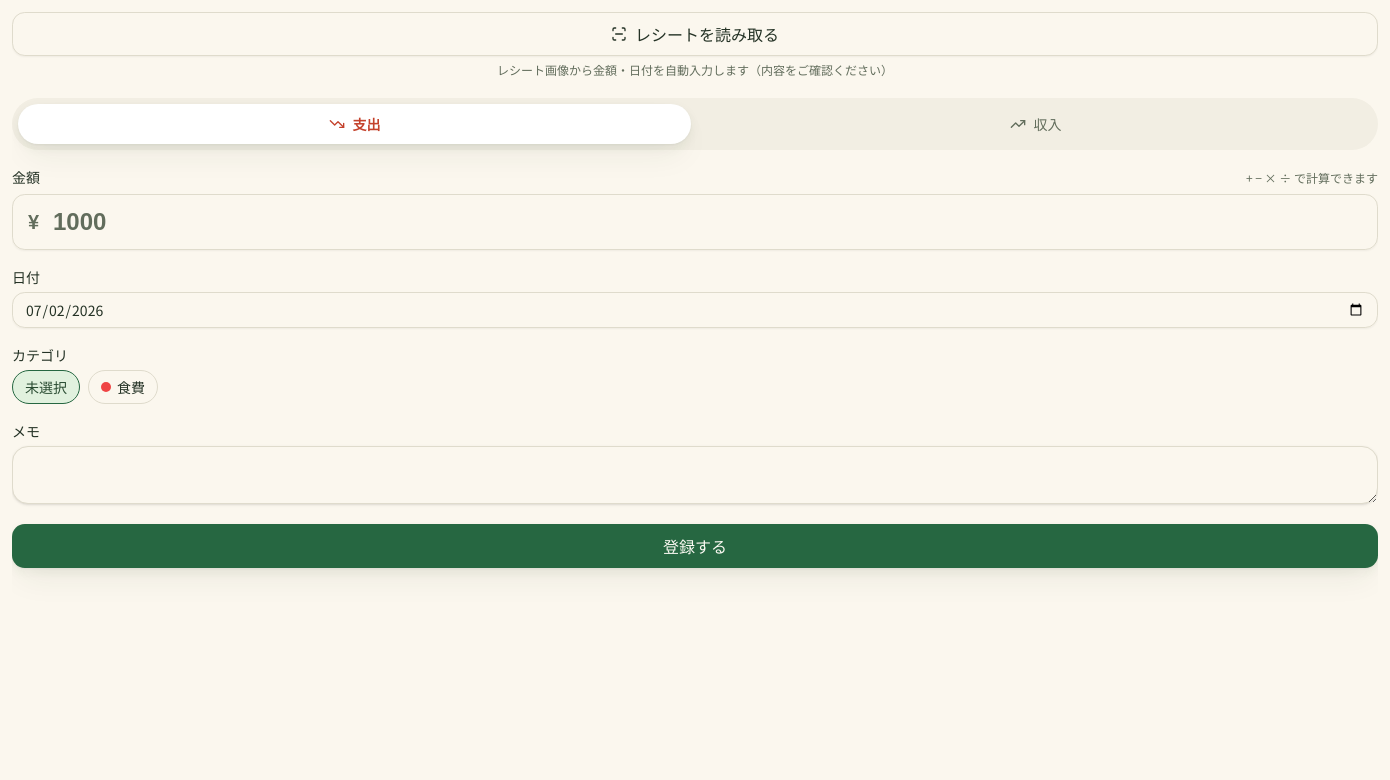
Test case: TransactionForm › 収入に切り替えると収入カテゴリのチップに入れ替わる
Click the radio button labelled "収入".
click(1036, 124)  # box [1010,114,1062,134]
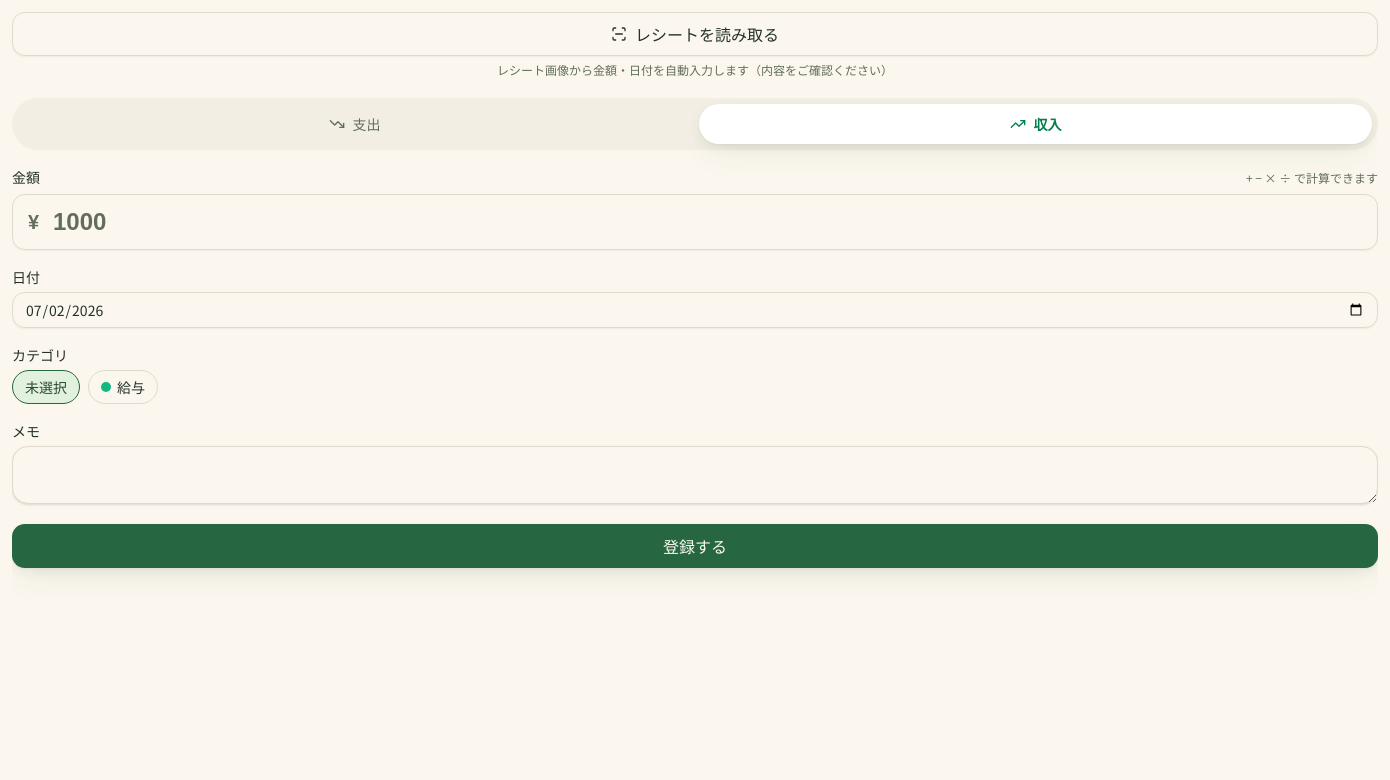
Check: the radio button labelled "給与" is shown, box [88,370,158,404]
Check: the radio button labelled "食費" is gone
